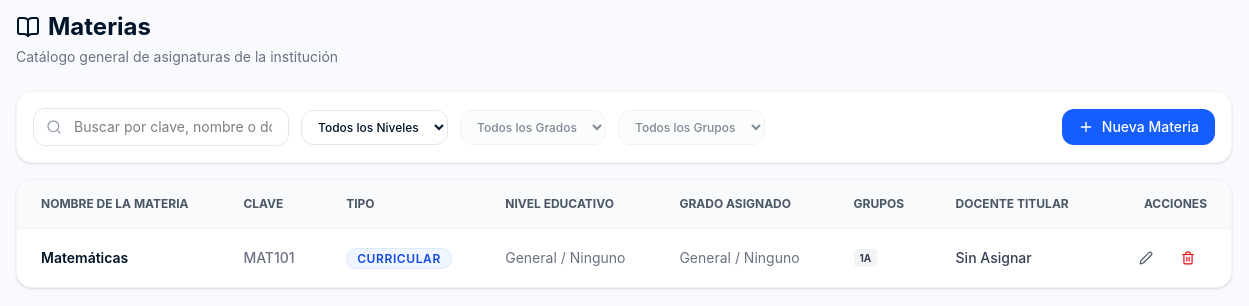
Test case: MateriasListPage Component › debería filtrar materias por búsqueda de texto
This screenshot has width=1249, height=306.
Type "Ciencias" into the field with placeholder "Buscar por clave, nombre o docente..." at x=161, y=127, box [34,109,288,145]
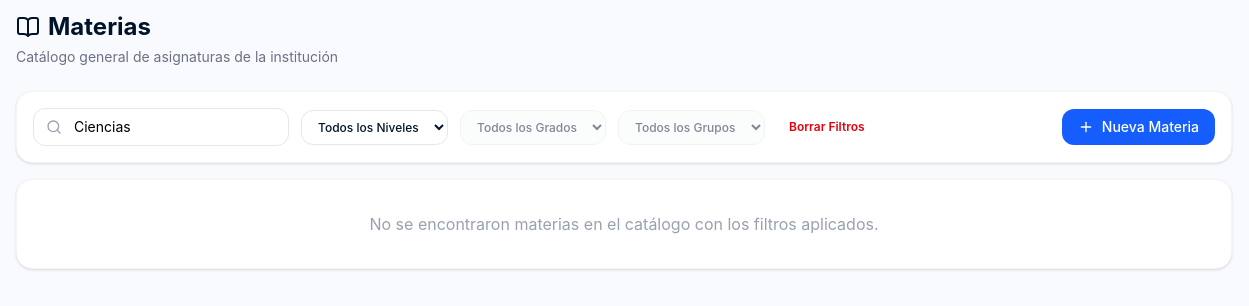
Expected: the text "Matemáticas" is gone
